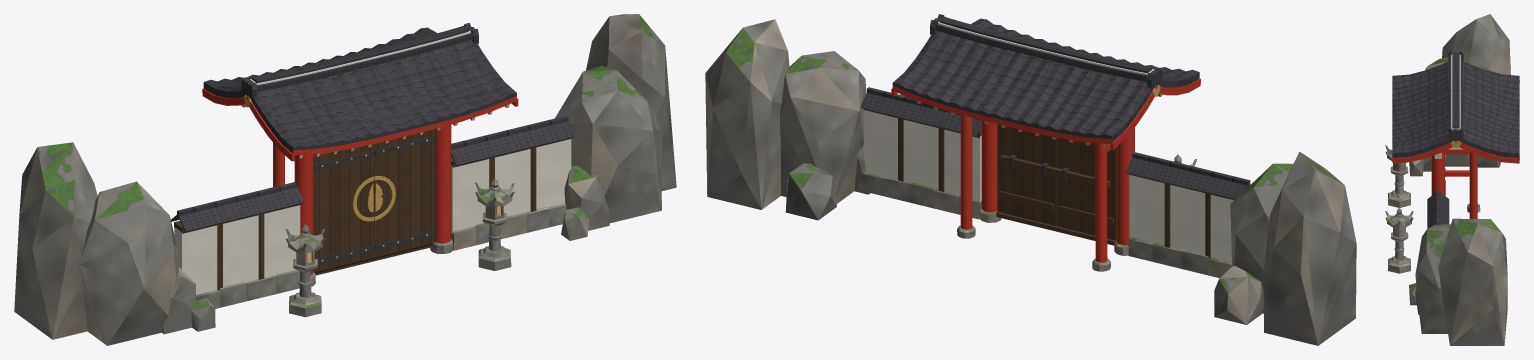
The model's file is tengu_gate.fbx.
The picture shows the model from 3 angles, left to right: view 1: azimuth 30°, elevation 25°; view 2: azimuth 150°, elevation 25°; view 3: azimuth 270°, elevation 25°; orthographic projection. The views are drawn at different scales.
Parts seen in each view (by area): view 1: tengu_gate_Rock, tengu_gate_Roof, tengu_gate_Plaster, tengu_gate_Stone, tengu_gate_DoorR, tengu_gate_DoorL, tengu_gate_Lacquer, tengu_gate_Wood; view 2: tengu_gate_Rock, tengu_gate_Roof, tengu_gate_Plaster, tengu_gate_Lacquer, tengu_gate_Stone, tengu_gate_DoorR, tengu_gate_DoorL, tengu_gate_Wood; view 3: tengu_gate_Rock, tengu_gate_Roof, tengu_gate_Lacquer, tengu_gate_Stone, tengu_gate_Plaster.
Boxes of the visible parts, x1,y1,x2,y2 form: tengu_gate_Rock: (14,14,676,345); tengu_gate_Roof: (171,23,574,231); tengu_gate_Plaster: (174,30,571,294); tengu_gate_Stone: (196,178,566,317); tengu_gate_DoorR: (374,129,434,257); tengu_gate_DoorL: (313,144,374,271); tengu_gate_Lacquer: (202,88,518,275); tengu_gate_Wood: (174,138,571,290); tengu_gate_Rock: (705,19,1356,345); tengu_gate_Roof: (861,14,1250,199); tengu_gate_Plaster: (864,21,1233,262); tengu_gate_Lacquer: (891,78,1200,262); tengu_gate_Stone: (858,154,1231,277); tengu_gate_DoorR: (997,124,1056,225); tengu_gate_DoorL: (1057,138,1116,240); tengu_gate_Wood: (863,109,1234,258); tengu_gate_Rock: (1409,14,1510,345); tengu_gate_Roof: (1392,51,1519,228); tengu_gate_Lacquer: (1392,80,1519,218); tengu_gate_Stone: (1385,145,1480,273); tengu_gate_Plaster: (1449,54,1462,149).
Size of the model in its own units: 74.87 by 23 by 19.07.
Materials: 1 (1 with a texture image).
